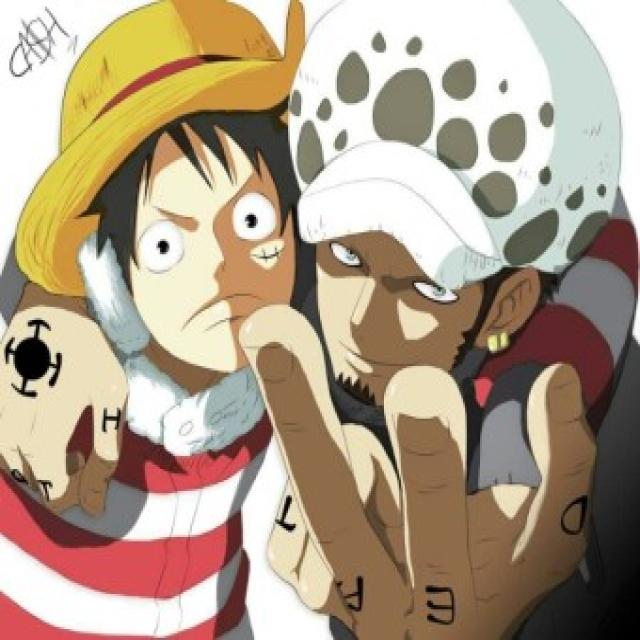Luffy: (0, 13, 339, 344)
